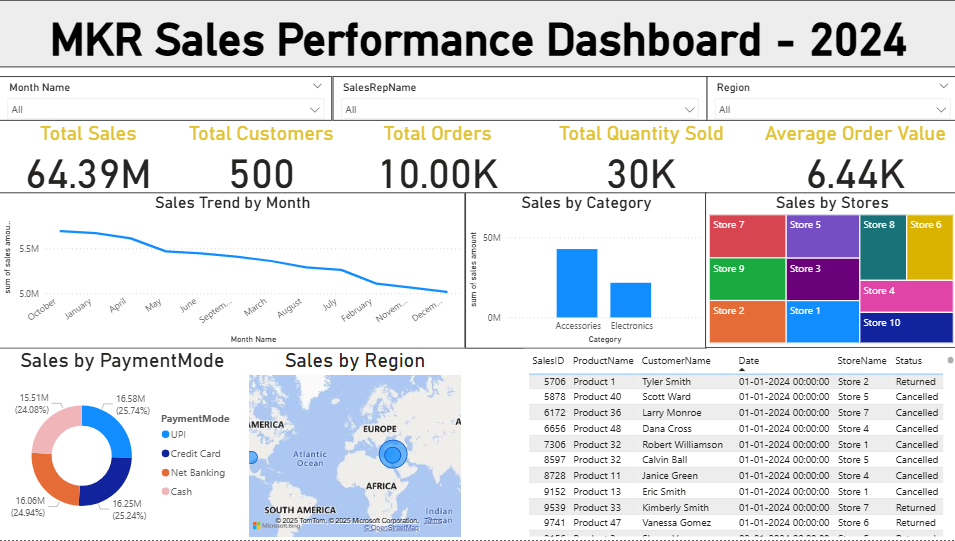

What the dashboard file says about the page in this screenshot:
{"tool":"powerbi","page":{"name":"page 1","canvas":[1280,720],"ordinal":0},"visuals":[{"type":"card","fields":{"Values":["DateTable.Dynamic Title"]},"box":[0,0,1279.7,89.5],"z":0},{"type":"slicer","fields":{"Values":["DateTable.Month Name"]},"box":[0,102.4,444.4,59.2],"z":1},{"type":"slicer","fields":{"Values":["Stores.Region"]},"box":[943.6,102.4,336.2,59.2],"z":2},{"type":"slicer","fields":{"Values":["SalesReps.SalesRepName"]},"box":[444.4,102.4,499.2,59.2],"z":3},{"type":"card","title":"Total Sales","fields":{"Values":["SalesTransactions.sum of sales amount"]},"box":[0,161.6,238.1,95.2],"z":5},{"type":"card","title":"Total Customers","fields":{"Values":["SalesTransactions.CustomerID"]},"box":[238.1,161.6,222.2,95.2],"z":6},{"type":"card","title":"Total Quantity Sold","fields":{"Values":["SalesTransactions.Quantity"]},"box":[709.8,161.6,292.9,95.2],"z":7},{"type":"card","title":"Total Orders","fields":{"Values":["SalesTransactions.SalesID"]},"box":[460.2,161.6,249.6,95.2],"z":8},{"type":"card","title":"Average Order Value","fields":{"Values":["SalesTransactions.Average_Order_Value"]},"box":[1002.7,161.6,277,95.2],"z":9},{"type":"lineChart","title":"Sales Trend by Month","fields":{"Y":["SalesTransactions.sum of sales amount"],"Category":["DateTable.Month Name"]},"box":[0,256.8,621.8,207.8],"z":10},{"type":"clusteredColumnChart","title":"Sales by Category","fields":{"Category":["Products.Category"],"Y":["SalesTransactions.sum of sales amount"]},"box":[621.8,256.8,321.7,207.8],"z":11},{"type":"treemap","title":"Sales by Stores","fields":{"Values":["SalesTransactions.sum of sales amount"],"Group":["Stores.StoreName"]},"box":[941.4,257.1,337.1,207.1],"z":12},{"type":"donutChart","title":"Sales  by PaymentMode","fields":{"Y":["SalesTransactions.sum of sales amount"],"Category":["PaymentModes.PaymentMode"]},"box":[0,464.6,328.9,255.4],"z":13},{"type":"tableEx","fields":{"Values":["SalesTransactions.SalesID","Products.ProductName","Customers.CustomerName","DateTable.Date","Stores.StoreName","OrderStatus.Status"]},"box":[699.7,464.6,580,255.4],"z":14},{"type":"map","title":"Sales by Region","fields":{"Size":["SalesTransactions.sum of sales amount"],"Category":["Stores.Region"]},"box":[328.9,464.6,292.9,255.4],"z":15}]}

Visuals, with their boxes in screenshot pixels (x1, y1, x2, y2), scaled from the page's 1280x720 canvas onto the 955x541 screenshot:
card - DateTable.Dynamic Title: box(0, 0, 954, 67)
slicer - DateTable.Month Name: box(0, 77, 332, 121)
slicer - Stores.Region: box(704, 77, 954, 121)
slicer - SalesReps.SalesRepName: box(332, 77, 704, 121)
"Total Sales" card: box(0, 121, 178, 193)
"Total Customers" card: box(178, 121, 343, 193)
"Total Quantity Sold" card: box(530, 121, 748, 193)
"Total Orders" card: box(343, 121, 530, 193)
"Average Order Value" card: box(748, 121, 954, 193)
"Sales Trend by Month" lineChart: box(0, 193, 464, 349)
"Sales by Category" clusteredColumnChart: box(464, 193, 704, 349)
"Sales by Stores" treemap: box(702, 193, 954, 349)
"Sales  by PaymentMode" donutChart: box(0, 349, 245, 540)
tableEx - SalesTransactions.SalesID x Products.ProductName: box(522, 349, 954, 540)
"Sales by Region" map: box(245, 349, 464, 540)
